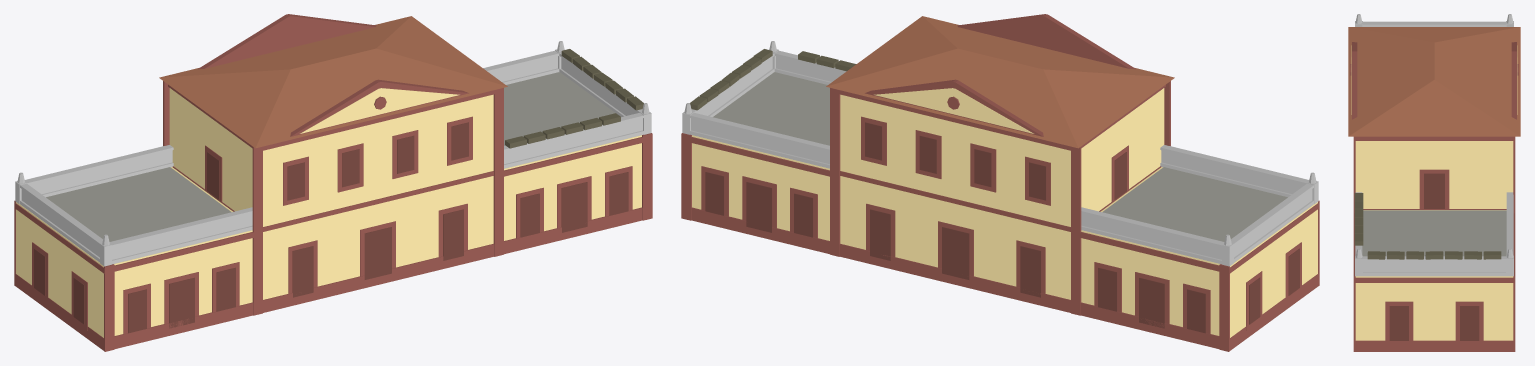
Rendered from SM_EdificioViajerosSagunto_v1_Segura_LOD1.fbx.
The picture shows the model from 3 angles, left to right: view 1: azimuth 30°, elevation 25°; view 2: azimuth 150°, elevation 25°; view 3: azimuth 270°, elevation 25°; orthographic projection. The views are drawn at different scales.
Visible parts, largest first — view 1: SM_edificio_viajeros_sagunto_v1_LOD1; view 2: SM_edificio_viajeros_sagunto_v1_LOD1; view 3: SM_edificio_viajeros_sagunto_v1_LOD1.
Part boxes in pixels (x1,y1,x2,y2): SM_edificio_viajeros_sagunto_v1_LOD1: [14, 14, 652, 351]; SM_edificio_viajeros_sagunto_v1_LOD1: [681, 14, 1319, 351]; SM_edificio_viajeros_sagunto_v1_LOD1: [1348, 14, 1520, 351].
Bounding box in the file's own units: 32.13 × 11.4 × 9.8.
